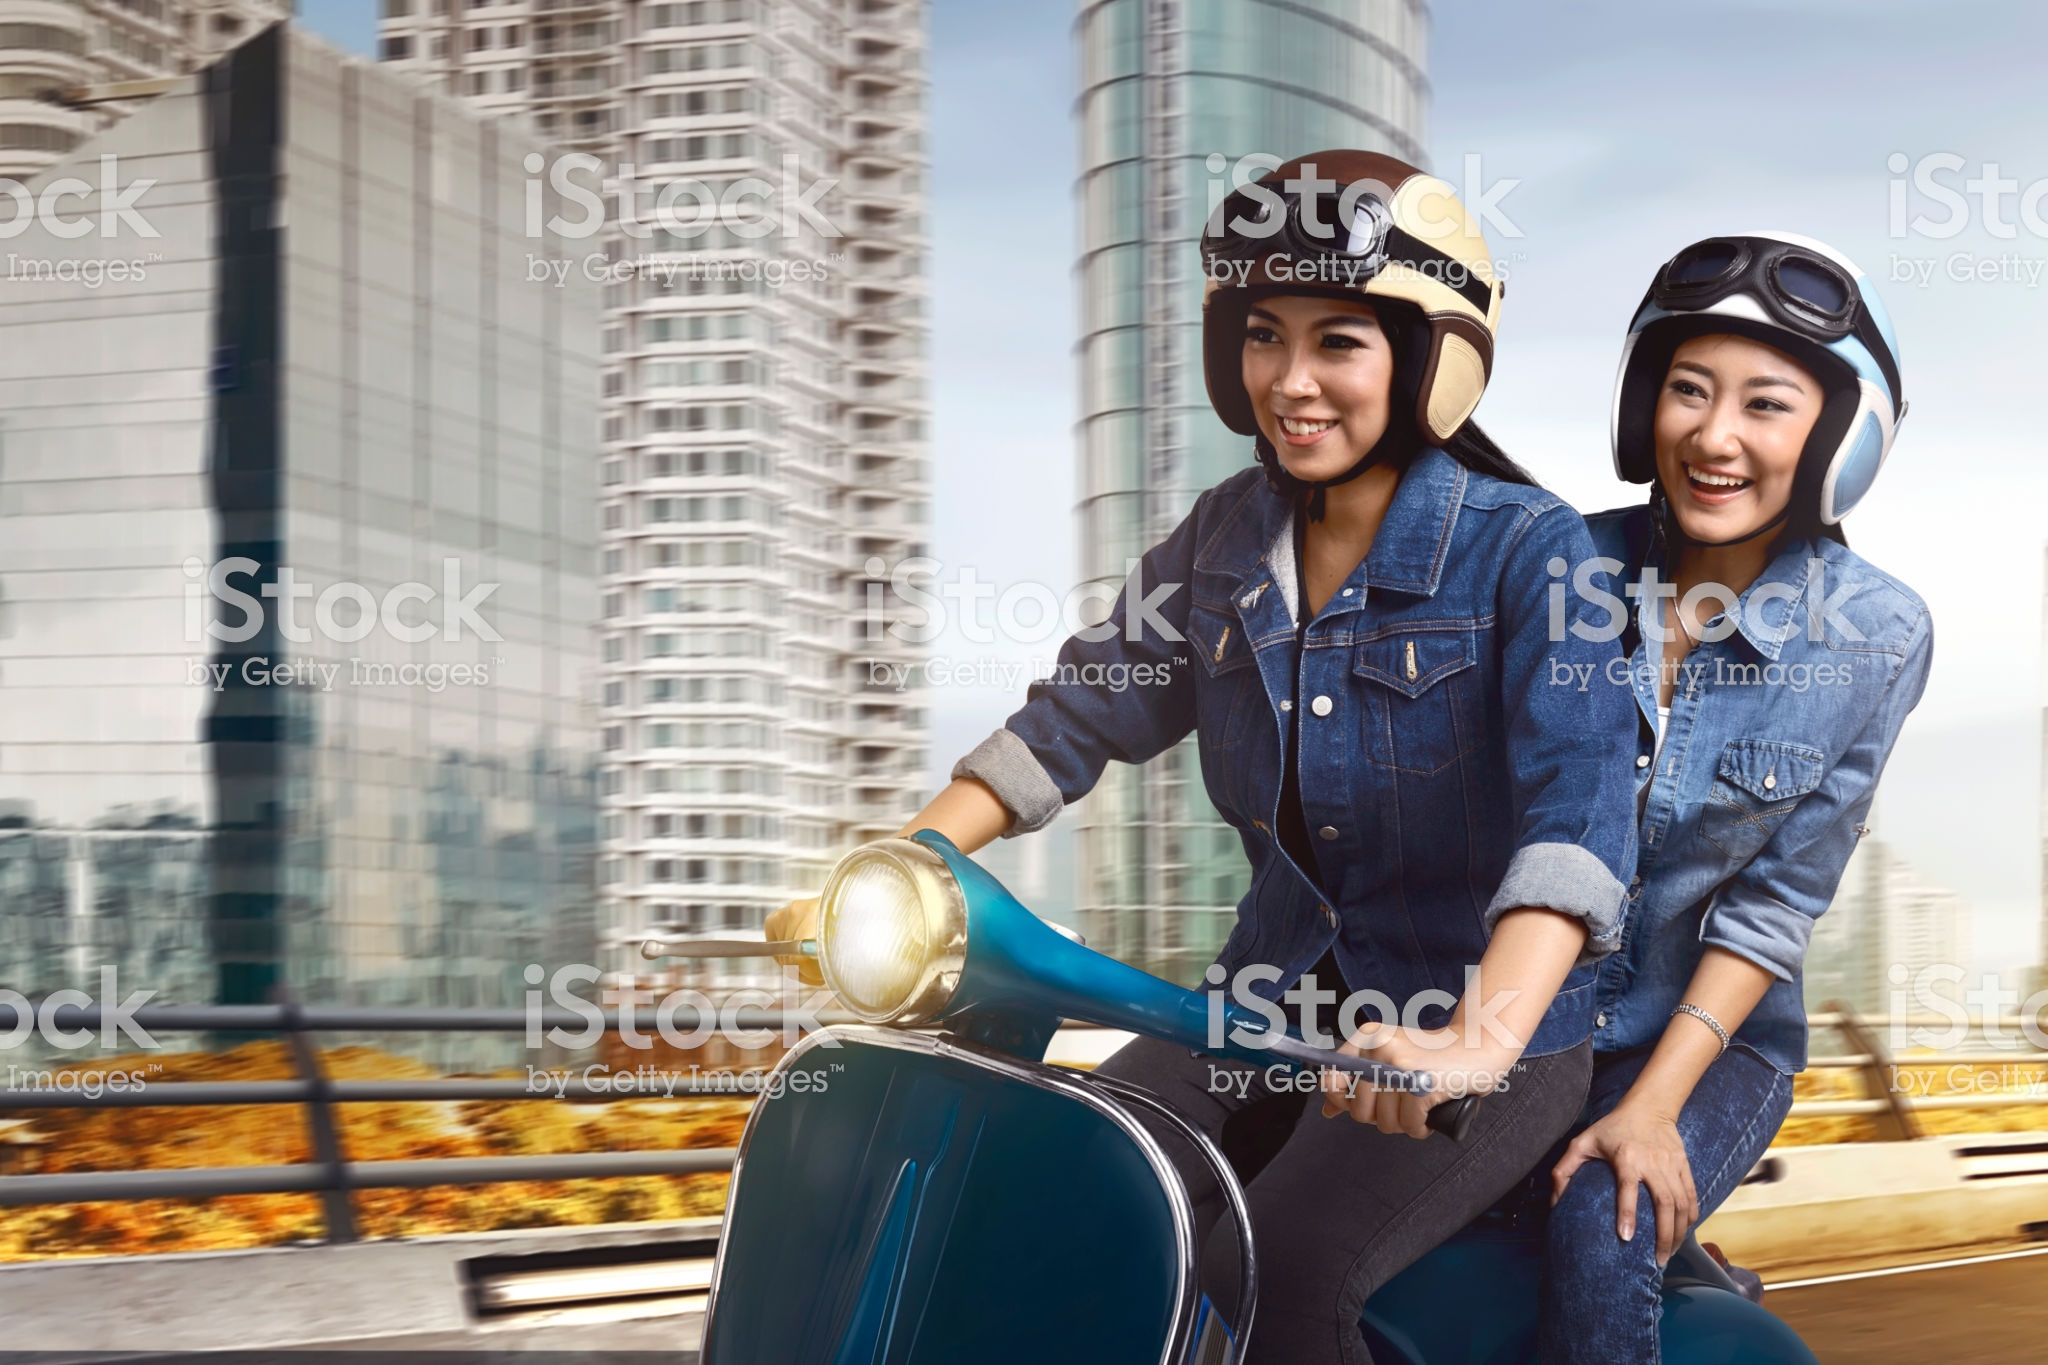helmet: (1194, 163, 1523, 468), (1619, 236, 1957, 532)
